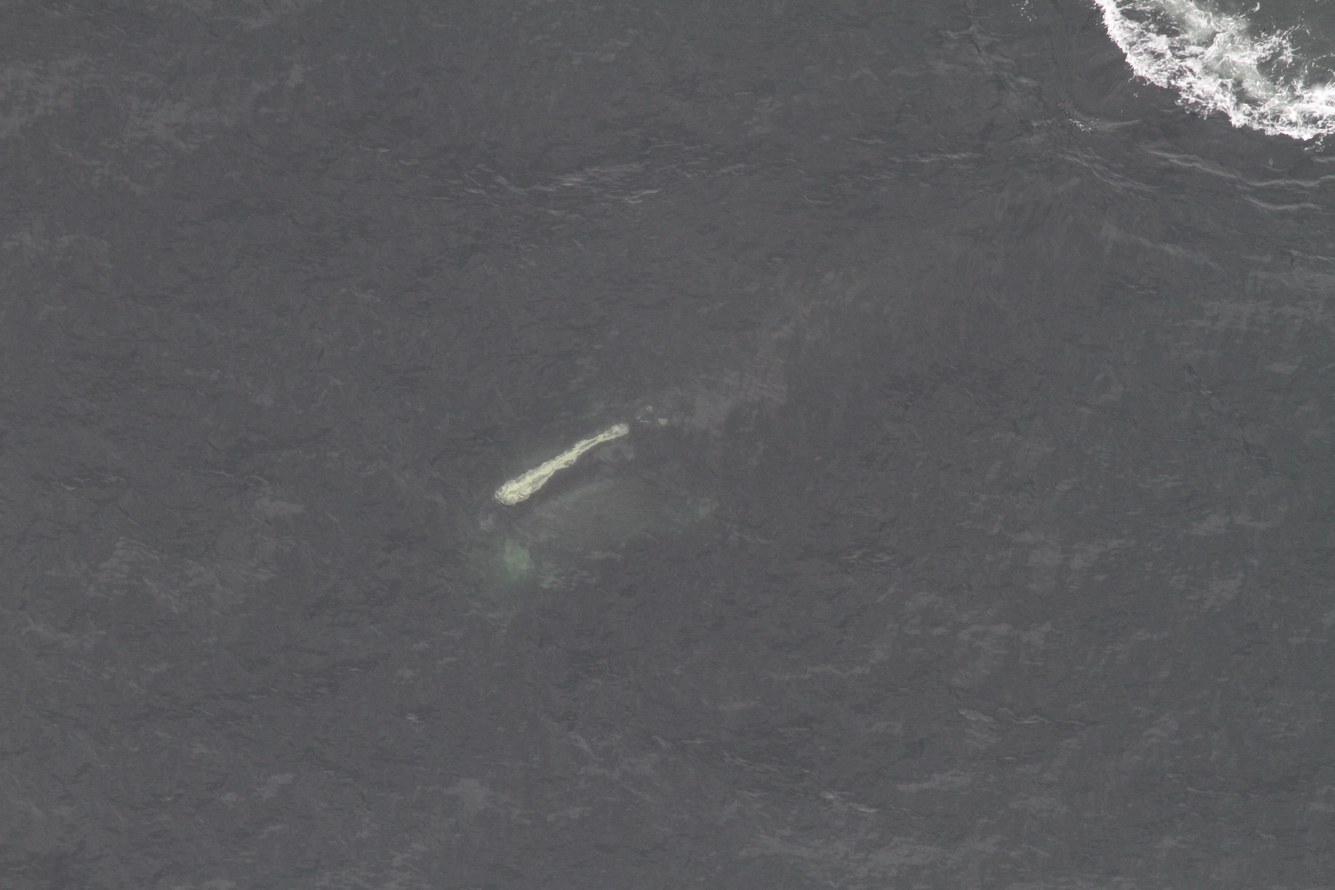whale: (443, 339, 816, 615)
